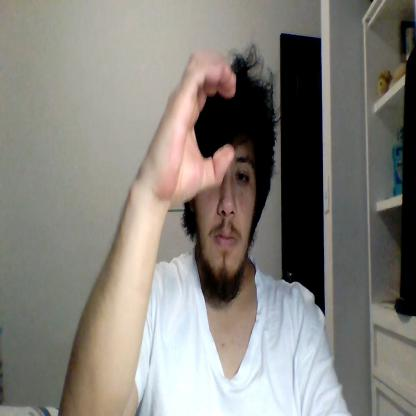C: (159, 49, 236, 204)
